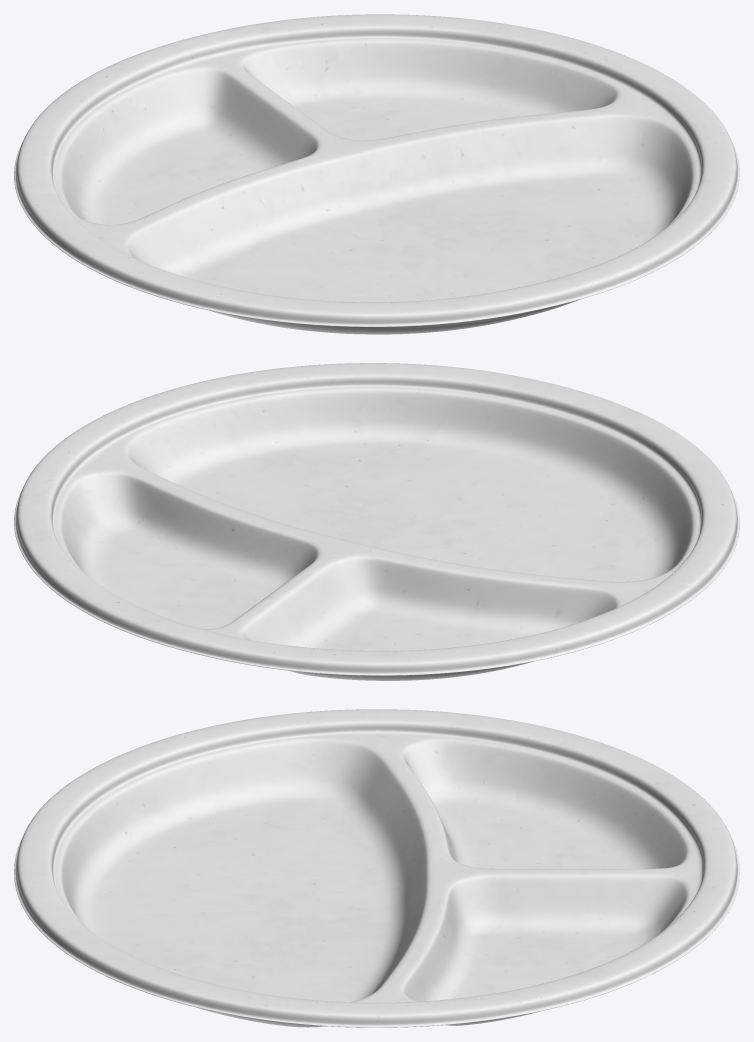
Rendered from 3-elegant-compartments-plates-clean-transformed.glb.
3 renders of one model, top to bottom at view 1: azimuth 30°, elevation 25°; view 2: azimuth 150°, elevation 25°; view 3: azimuth 270°, elevation 25°, orthographic.
Parts seen in each view (by area): view 1: ElegantFBXASC032compartmentsFBXASC032plates; view 2: ElegantFBXASC032compartmentsFBXASC032plates; view 3: ElegantFBXASC032compartmentsFBXASC032plates.
Boxes of the visible parts, x1,y1,x2,y2 form: ElegantFBXASC032compartmentsFBXASC032plates: (14,14,739,334); ElegantFBXASC032compartmentsFBXASC032plates: (14,363,739,680); ElegantFBXASC032compartmentsFBXASC032plates: (14,709,739,1027).
Size of the model in its own units: 0.2642 by 0.0205 by 0.2606.
Materials: 1 (1 with a texture image).
